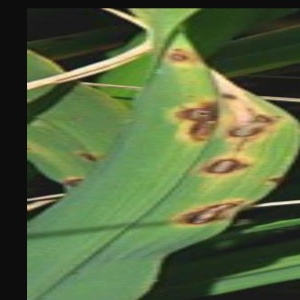Bacterial_Leaf_Blight: (168, 189, 254, 233), (189, 143, 261, 188), (163, 95, 225, 127), (222, 116, 271, 149), (174, 117, 221, 149), (240, 103, 287, 130), (160, 49, 200, 70), (216, 85, 241, 105), (169, 42, 189, 52)
